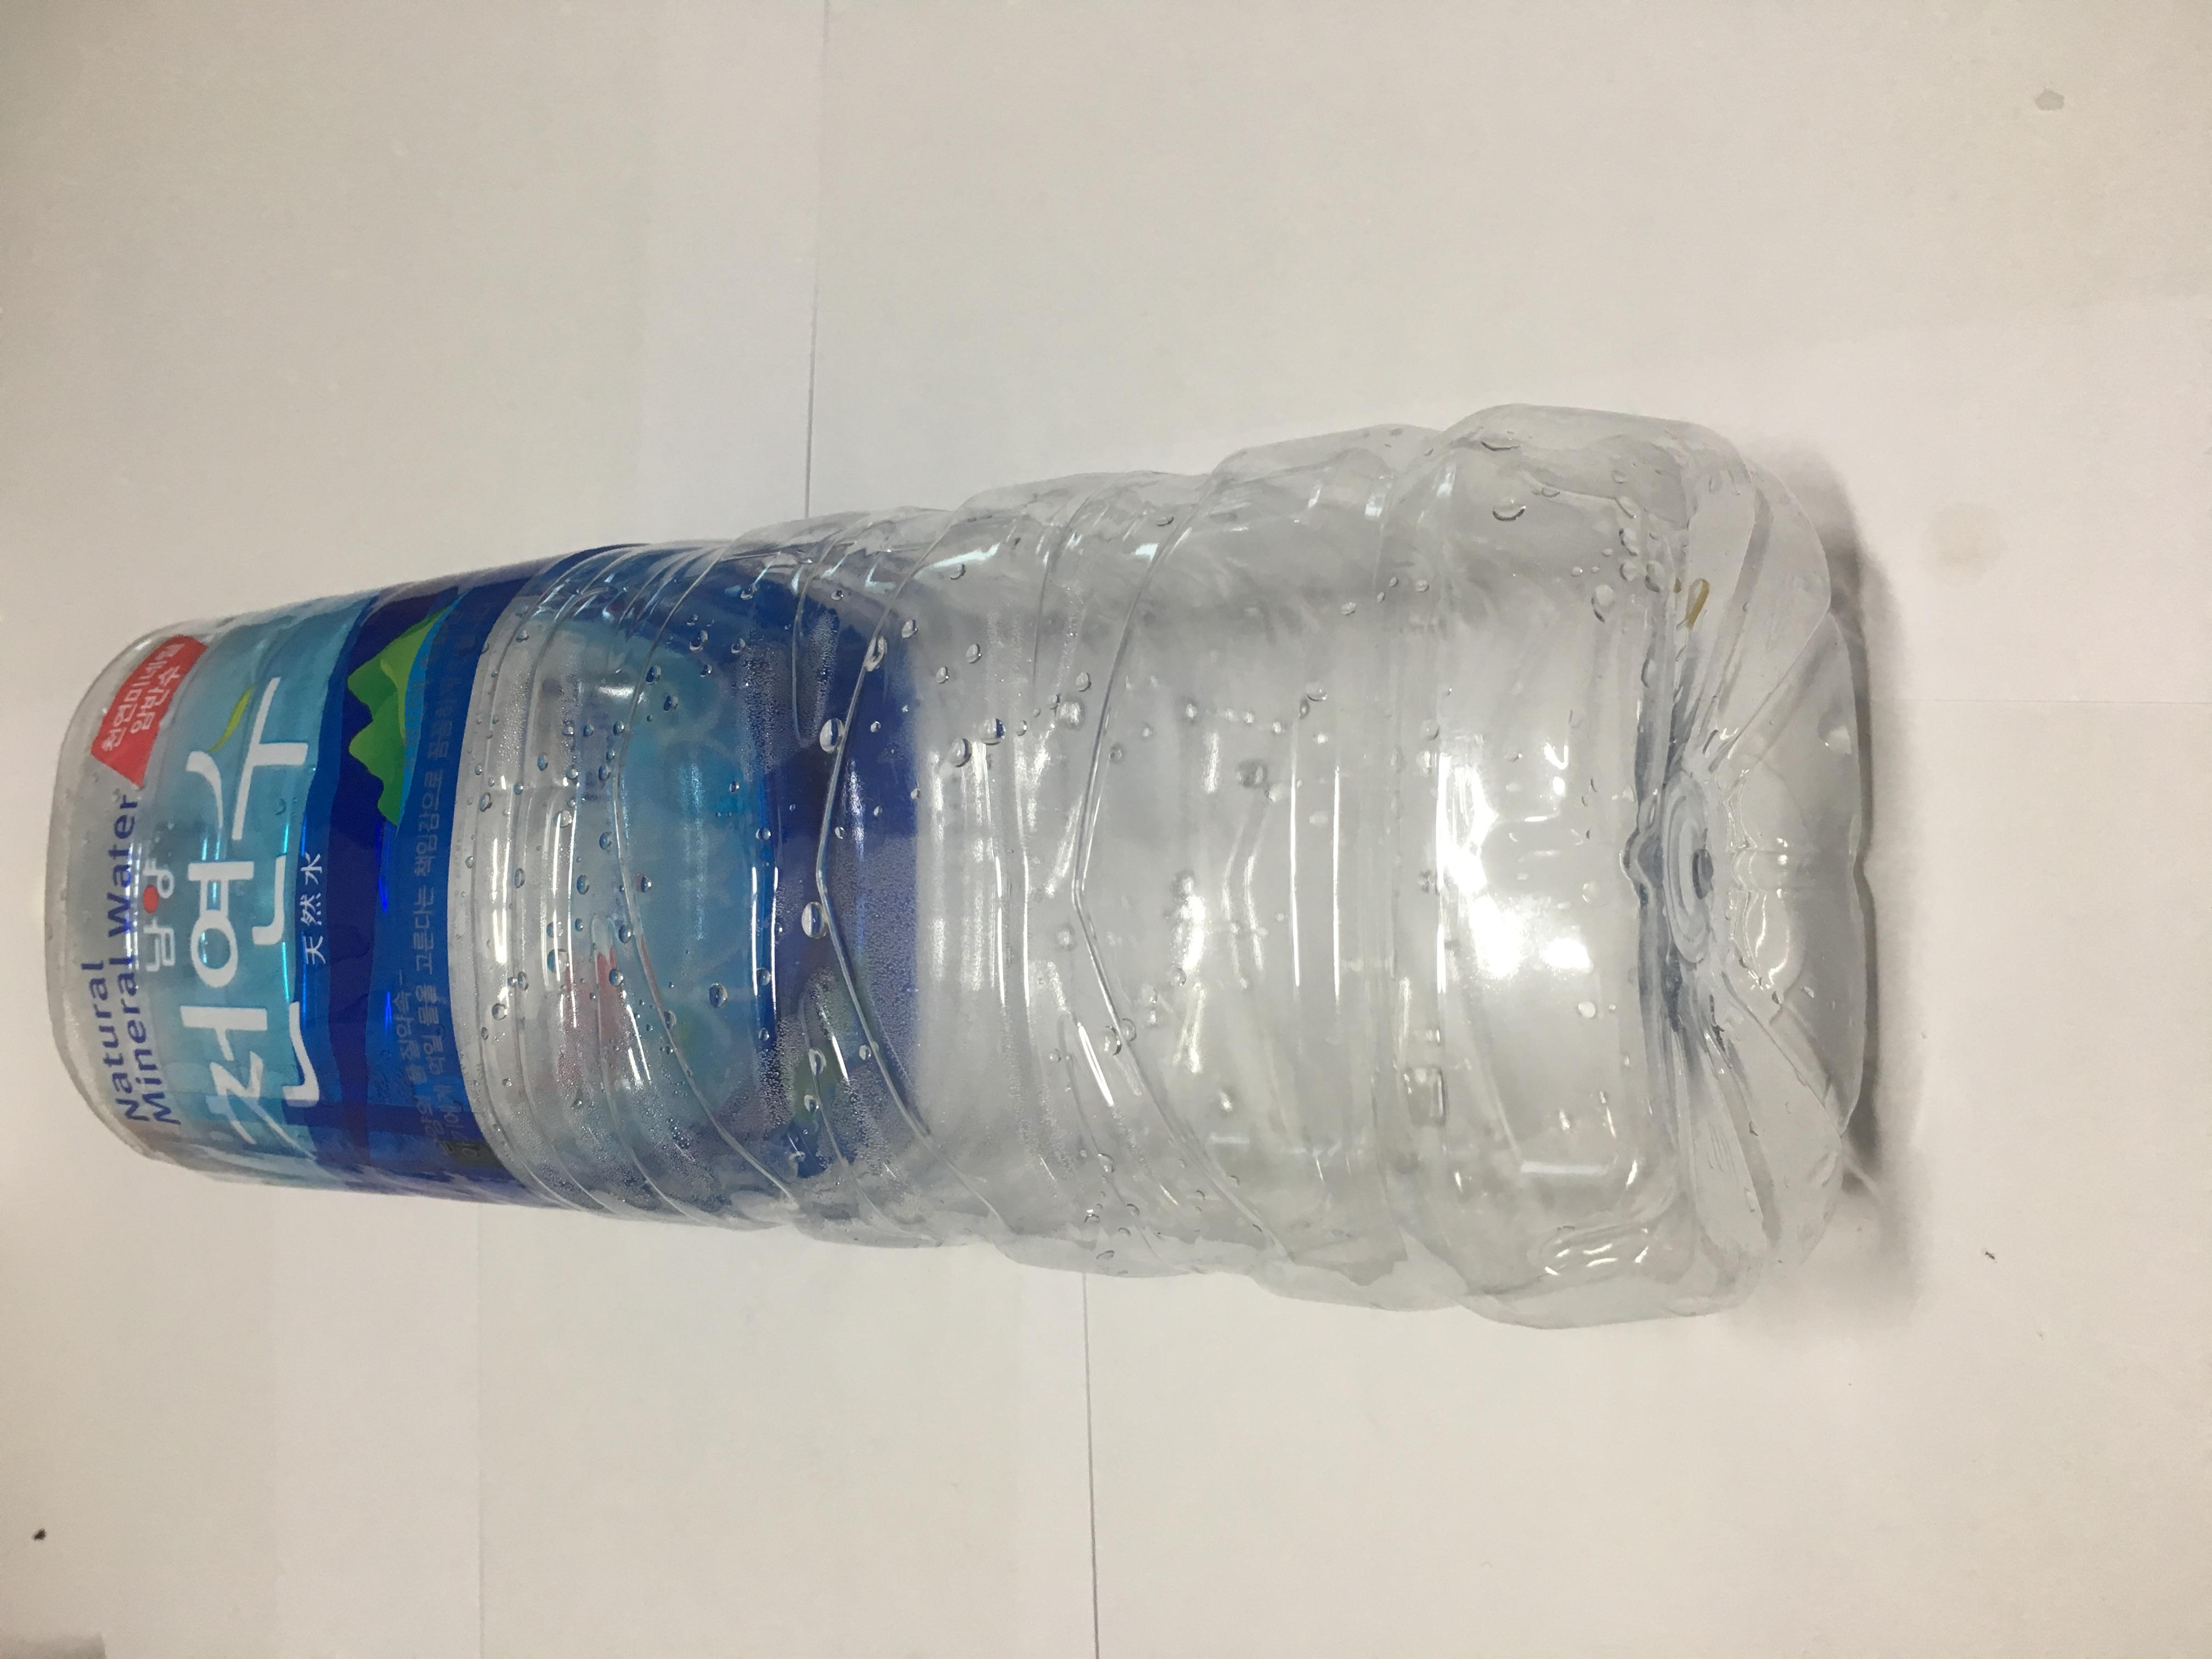bottle: (206, 664, 1580, 779)
